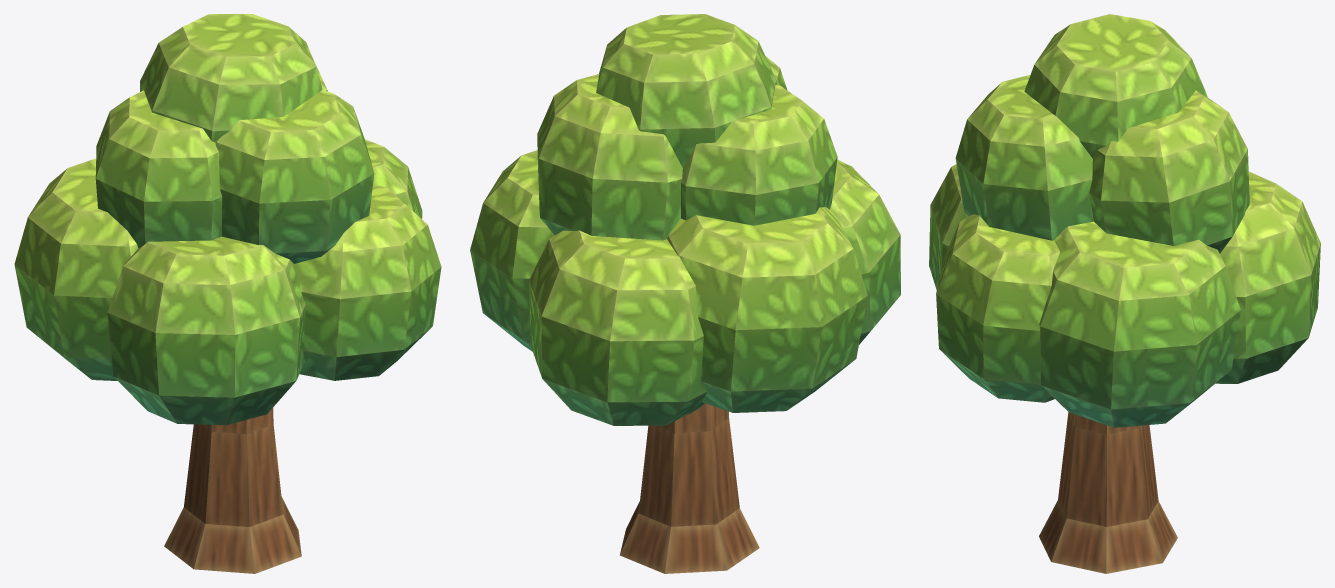
File: prop.glb
3 renders of one model, left to right at view 1: azimuth 30°, elevation 25°; view 2: azimuth 150°, elevation 25°; view 3: azimuth 270°, elevation 25°, orthographic.
Visible parts, largest first — view 1: foliage_v3; view 2: foliage_v3; view 3: foliage_v3.
Part boxes in pixels (<box>): foliage_v3: <box>14,14,441,573</box>; foliage_v3: <box>470,14,900,573</box>; foliage_v3: <box>929,14,1320,573</box>.
Size of the model in its own units: 13.86 by 18.3 by 12.79.
Materials: 1 (1 with a texture image).
